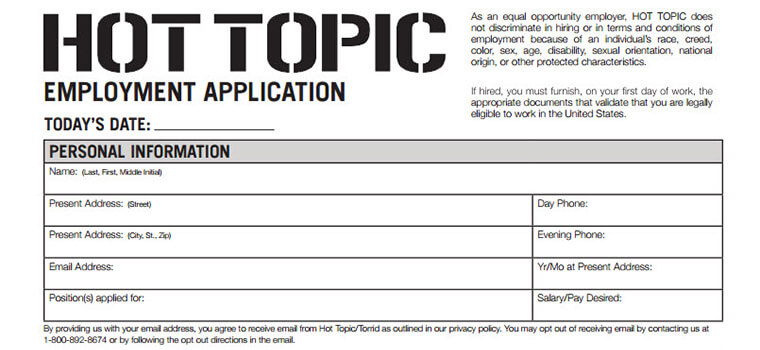table: (44, 139, 722, 322)
